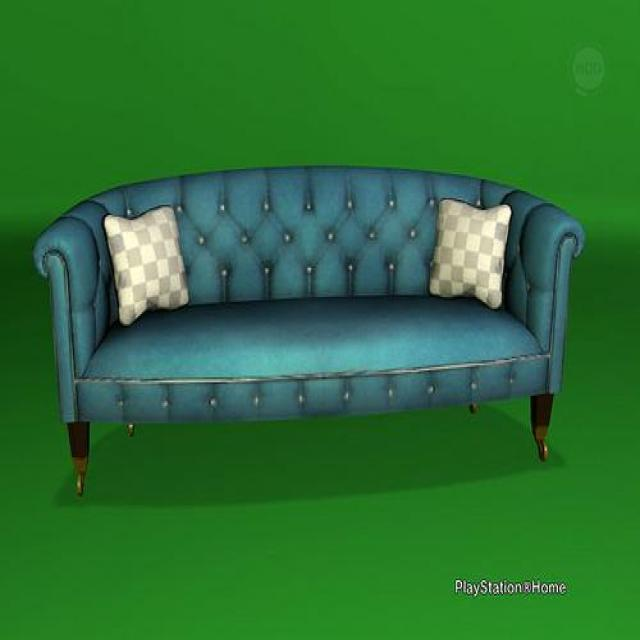sofa: (32, 158, 586, 497)
